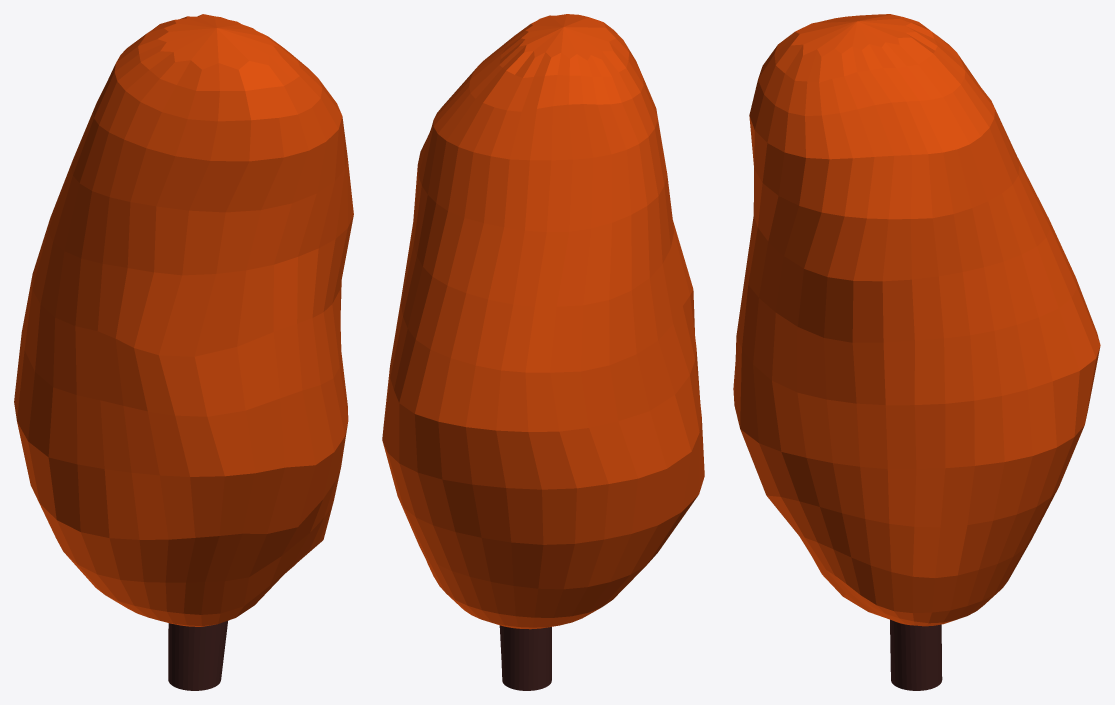
The model's file is Tree4.fbx.
3 renders of one model, left to right at view 1: azimuth 30°, elevation 25°; view 2: azimuth 150°, elevation 25°; view 3: azimuth 270°, elevation 25°, orthographic. The views are drawn at different scales.
Parts seen in each view (by area): view 1: Tree4; view 2: Tree4; view 3: Tree4.
Boxes of the visible parts, bbox=[...] form: Tree4: bbox=[14, 14, 353, 690]; Tree4: bbox=[382, 14, 704, 690]; Tree4: bbox=[733, 14, 1100, 690].
Bounding box in the file's own units: 1083 × 2434 × 1237.
